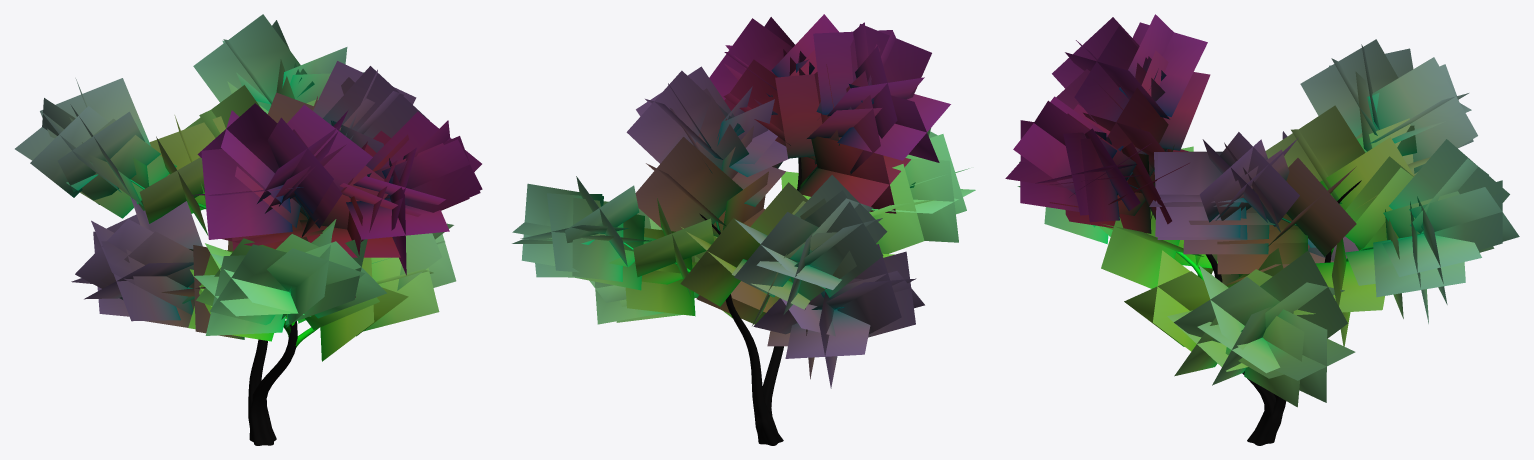
The model's file is URP_P3_Tree_4_LOD_0.fbx.
3 views of the same model, side by side, from view 1: azimuth 30°, elevation 25°; view 2: azimuth 150°, elevation 25°; view 3: azimuth 270°, elevation 25° (orthographic). The views are drawn at different scales.
Parts seen in each view (by area): view 1: Tree_4_LOD_0; view 2: Tree_4_LOD_0; view 3: Tree_4_LOD_0.
Part boxes in pixels (<box>): Tree_4_LOD_0: <box>15,14,482,445</box>; Tree_4_LOD_0: <box>512,14,975,445</box>; Tree_4_LOD_0: <box>1005,14,1519,445</box>.
Size of the model in its own units: 521 by 547 by 637.
